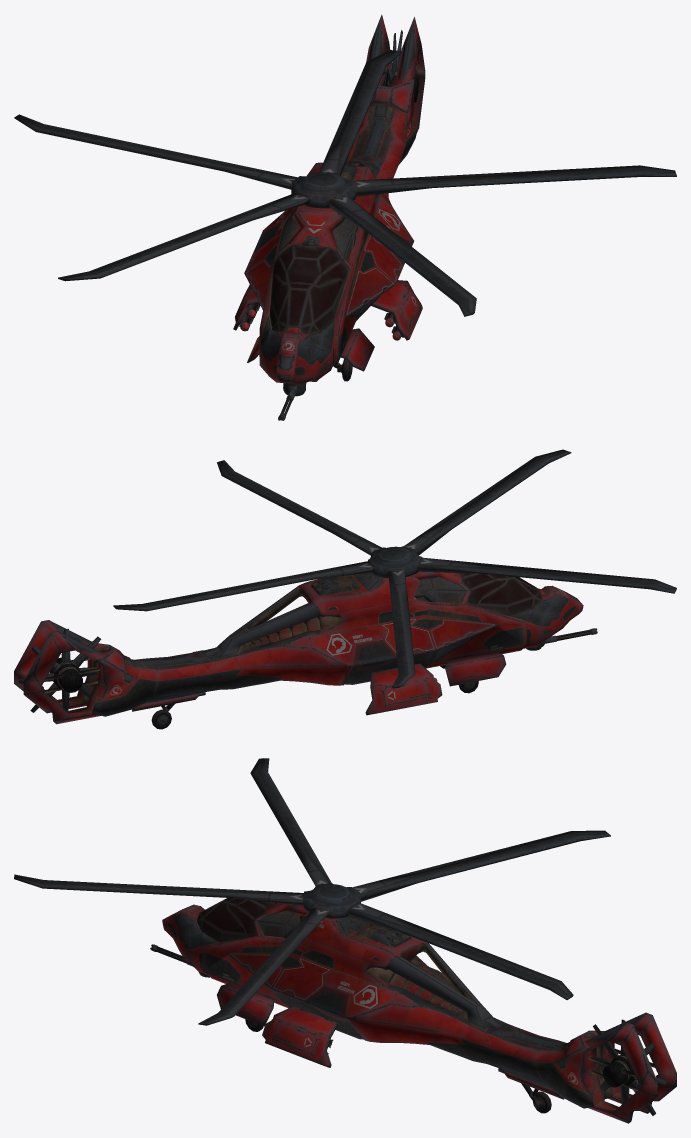
File: Harpy.fbx
3 renders of one model, top to bottom at view 1: azimuth 30°, elevation 25°; view 2: azimuth 150°, elevation 25°; view 3: azimuth 270°, elevation 25°, orthographic. The views are drawn at different scales.
Parts seen in each view (by area): view 1: Harpy.025_0, Harpy.010_0, Harpy.021_0, Harpy.019_0, Harpy.020_0; view 2: Harpy.025_0, Harpy.010_0, Harpy.020_0, Harpy.014_0, Harpy.018_0, Harpy.017_0; view 3: Harpy.025_0, Harpy.010_0, Harpy.021_0, Harpy.019_0, Harpy.018_0.
Part boxes in pixels (<box>): Harpy.025_0: <box>244,14,425,384</box>; Harpy.010_0: <box>14,50,676,316</box>; Harpy.021_0: <box>371,280,422,340</box>; Harpy.019_0: <box>340,328,374,371</box>; Harpy.020_0: <box>233,284,260,331</box>; Harpy.025_0: <box>14,571,583,724</box>; Harpy.010_0: <box>113,449,676,688</box>; Harpy.020_0: <box>365,663,442,715</box>; Harpy.014_0: <box>445,652,506,686</box>; Harpy.018_0: <box>18,628,101,712</box>; Harpy.017_0: <box>132,692,205,711</box>; Harpy.025_0: <box>162,898,676,1123</box>; Harpy.010_0: <box>14,758,610,1025</box>; Harpy.021_0: <box>262,1006,337,1067</box>; Harpy.019_0: <box>217,983,273,1026</box>; Harpy.018_0: <box>593,1019,666,1115</box>.
Size of the model in its own units: 5.67 by 1.55 by 6.18.
